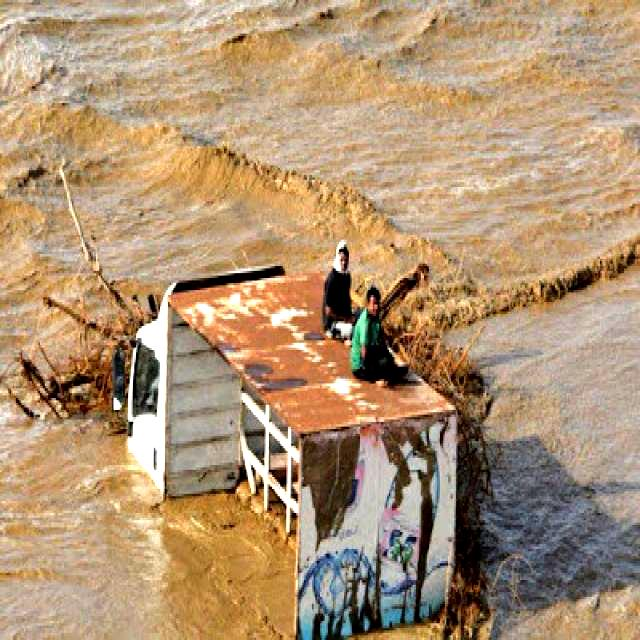civilian: (344, 282, 396, 383), (315, 237, 357, 359)
